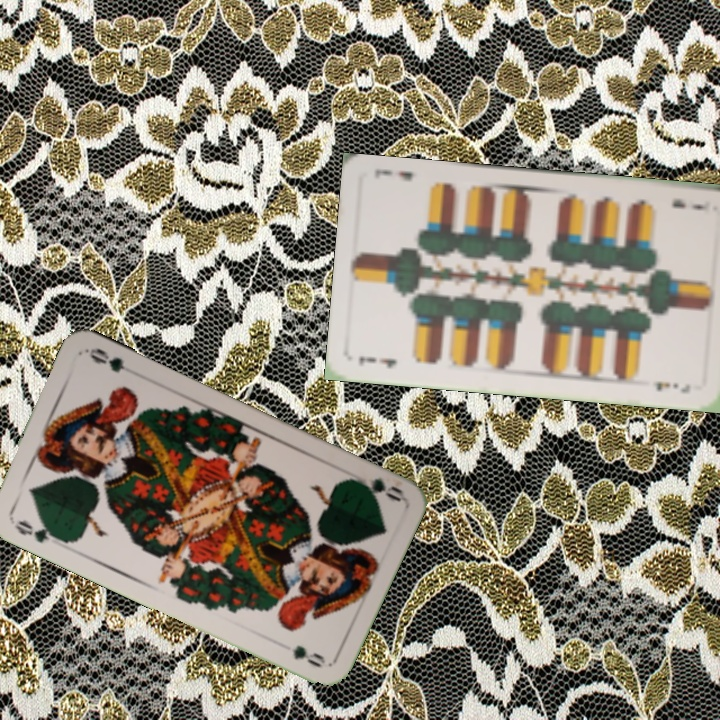E7: (354, 352, 399, 371), (667, 194, 713, 212)
GO: (346, 473, 406, 504), (10, 515, 63, 546)
